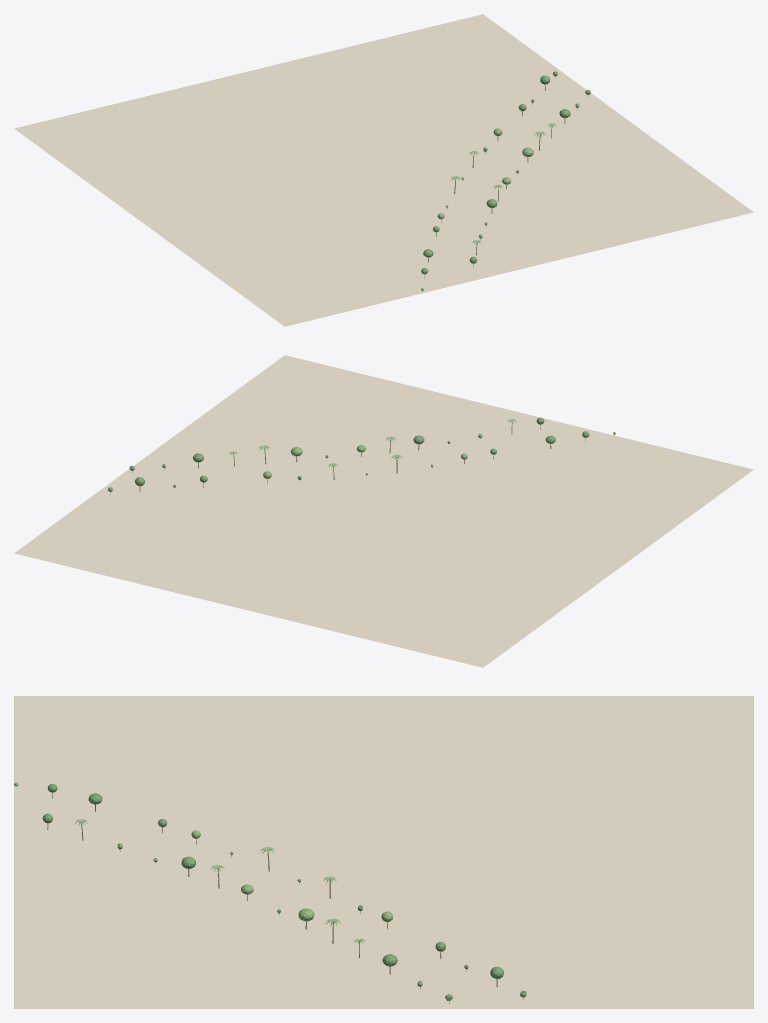
File: nature_5_-7.glb
The picture shows the model from 3 angles, top to bottom: view 1: azimuth 30°, elevation 25°; view 2: azimuth 150°, elevation 25°; view 3: azimuth 270°, elevation 25°; orthographic projection. The views are drawn at different scales.
Parts seen in each view (by area): view 1: ground, foliage_a; view 2: ground, foliage_a; view 3: ground, foliage_a, foliage_b.
Part boxes in pixels (left/top/right/bottom): ground: left=14, top=14, right=753, bottom=326; foliage_a: left=421, top=71, right=590, bottom=274; ground: left=14, top=355, right=753, bottom=667; foliage_a: left=108, top=417, right=589, bottom=491; ground: left=14, top=696, right=753, bottom=1008; foliage_a: left=42, top=783, right=526, bottom=1000; foliage_b: left=14, top=782, right=422, bottom=986.
Size of the model in its own units: 250 by 8.86 by 250.
